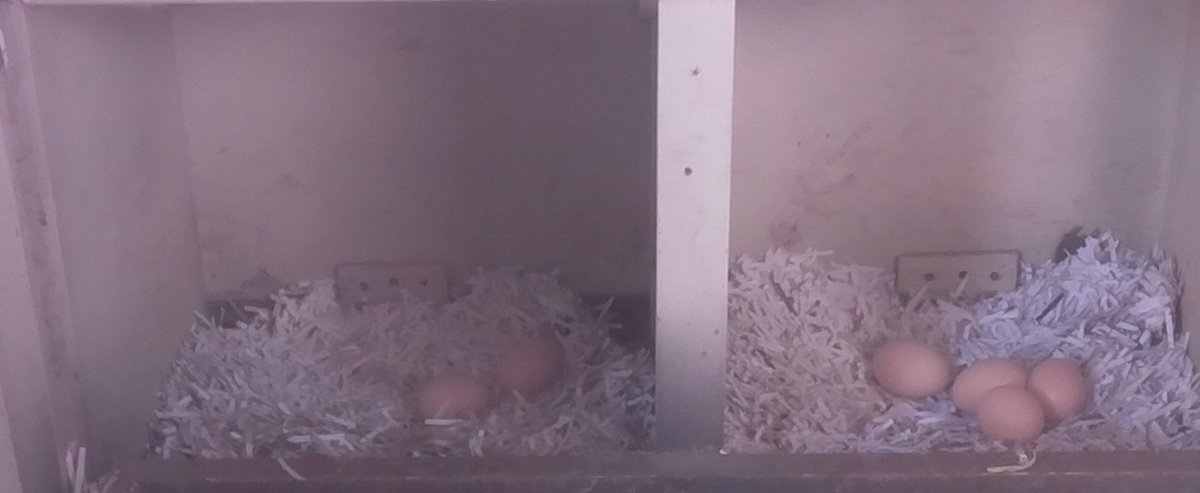egg: (868, 335, 955, 409), (407, 372, 502, 433), (496, 329, 570, 407), (1020, 354, 1093, 426), (978, 382, 1048, 448), (951, 356, 1024, 409)
